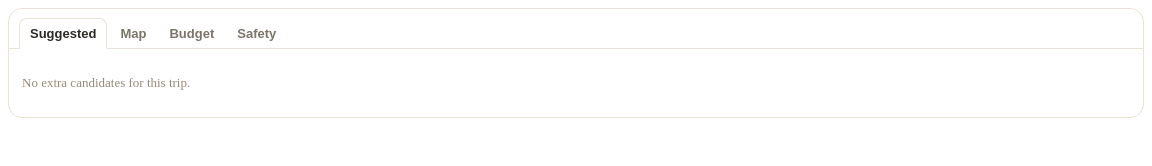
Test: Safety tab does not duplicate advisories already shown per-leg › drops a trip-level advisory whose text exactly matches a per-leg advisory detail
Click the button "Safety". click: (257, 33)
box: [227,18,286,48]
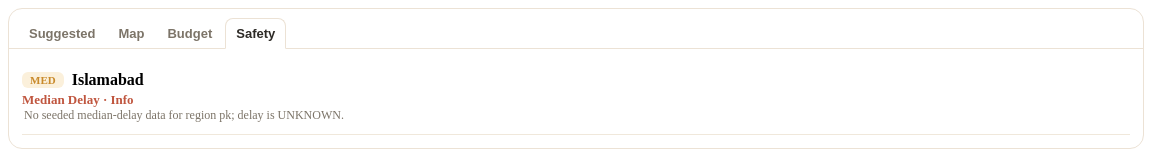
expect the text "No seeded median-delay data for region pk; delay is UNKNOWN." is shown once: met, box [24,108,344,122]
